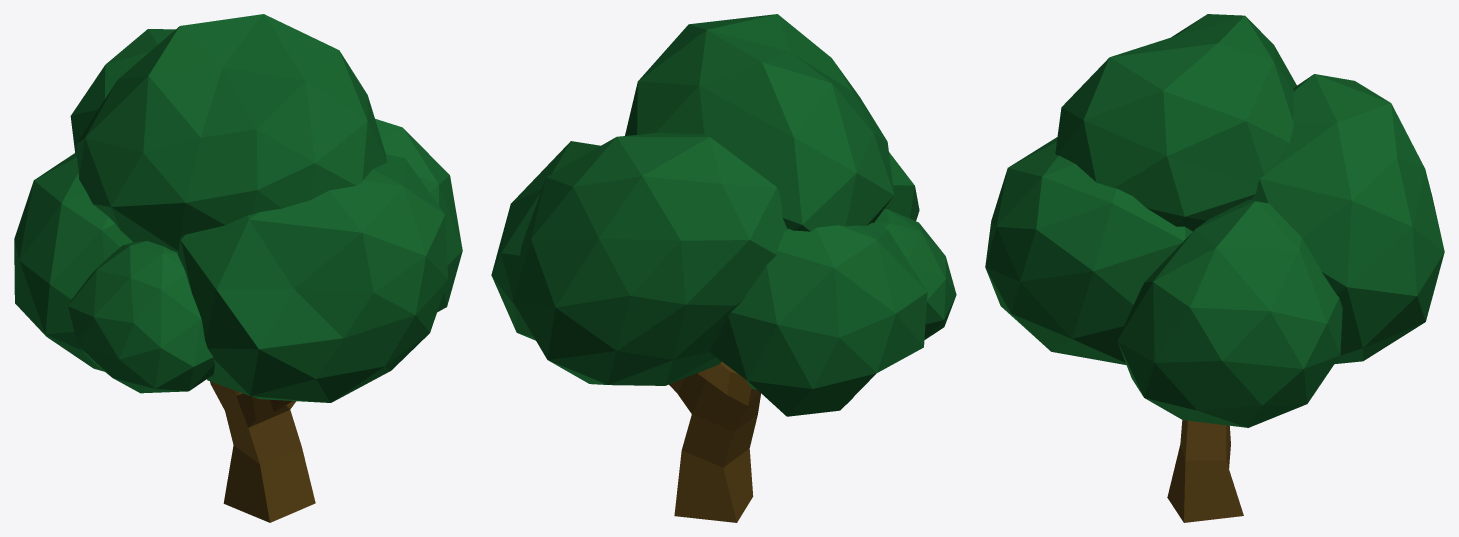
File: tree7.fbx
3 views of the same model, side by side, from view 1: azimuth 30°, elevation 25°; view 2: azimuth 150°, elevation 25°; view 3: azimuth 270°, elevation 25° (orthographic). The views are drawn at different scales.
Visible parts, largest first — view 1: OakTree3_LOD0; view 2: OakTree3_LOD0; view 3: OakTree3_LOD0.
Boxes of the visible parts, x1,y1,x2,y2 form: OakTree3_LOD0: (14,14,462,522); OakTree3_LOD0: (491,14,956,522); OakTree3_LOD0: (985,14,1444,522).
Size of what is drawn, in the model's own units: 1382 by 1584 by 1423.
